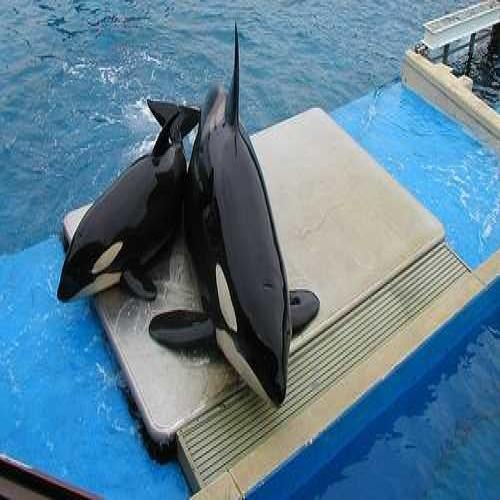killer_whale-endangered: (176, 59, 327, 424), (49, 94, 202, 318)
